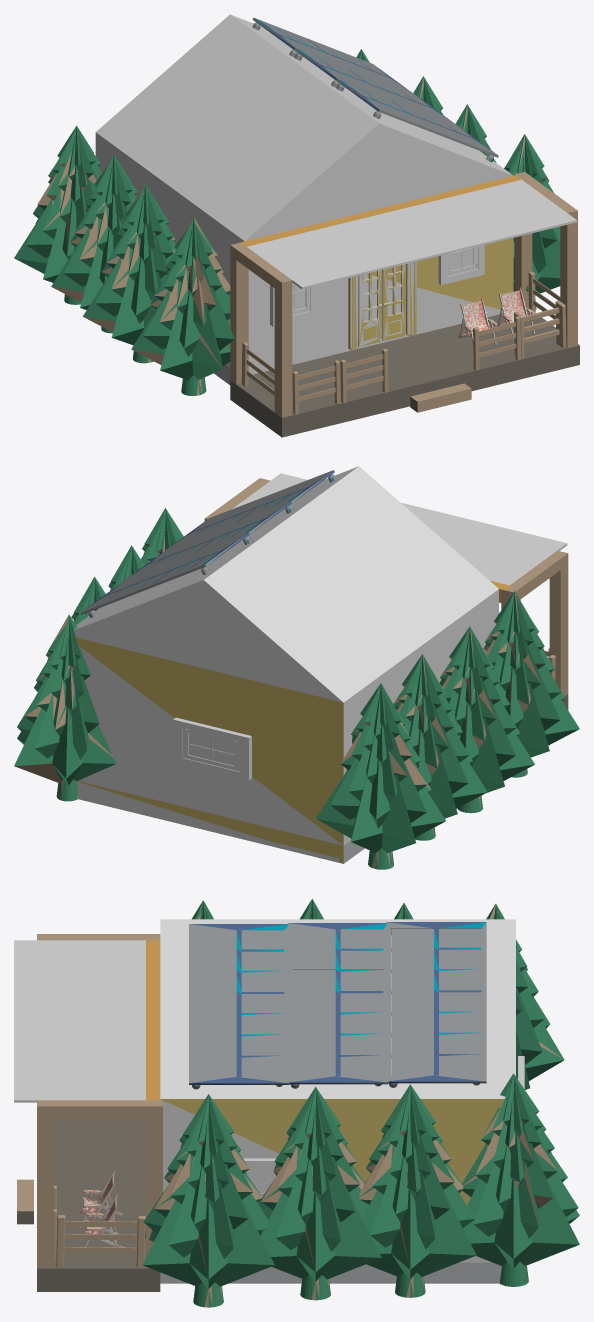
File: Funky Amberis.glb
The picture shows the model from 3 angles, top to bottom: view 1: azimuth 30°, elevation 25°; view 2: azimuth 150°, elevation 25°; view 3: azimuth 270°, elevation 25°; orthographic projection. The views are drawn at different scales.
Parts seen in each view (by area): view 1: Mesh_Mesh_head_geo.001_lambert2SG.001; view 2: Mesh_Mesh_head_geo.001_lambert2SG.001; view 3: Mesh_Mesh_head_geo.001_lambert2SG.001.
Part boxes in pixels (x1,y1,x2,y2): Mesh_Mesh_head_geo.001_lambert2SG.001: (14,14,579,437); Mesh_Mesh_head_geo.001_lambert2SG.001: (14,466,579,869); Mesh_Mesh_head_geo.001_lambert2SG.001: (14,898,579,1307).
Bounding box in the file's own units: 208 × 111 × 197.
